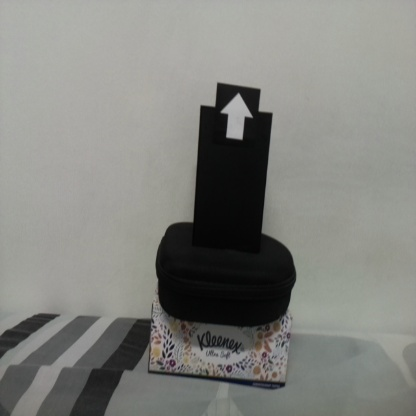id_1: (216, 86, 259, 157)
